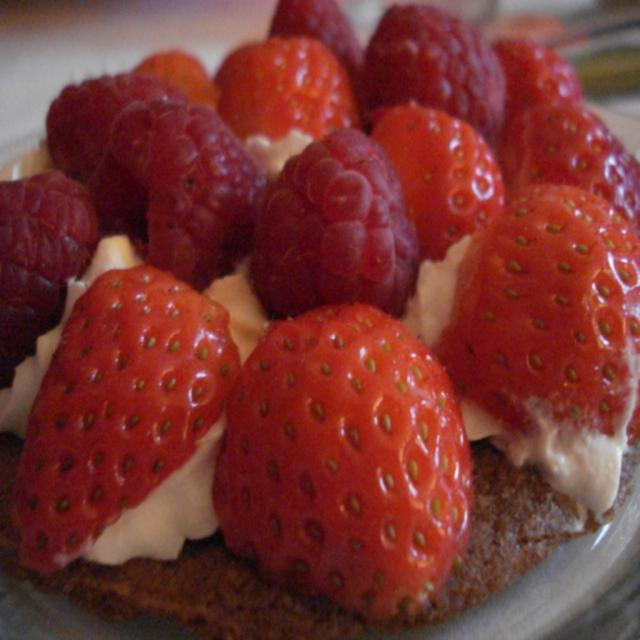Strawberry: (212, 301, 474, 624), (10, 263, 242, 576), (434, 180, 640, 520), (252, 127, 420, 323), (88, 99, 263, 283), (0, 169, 99, 400), (370, 101, 506, 262), (357, 3, 508, 137), (500, 101, 640, 232), (214, 36, 359, 140)
